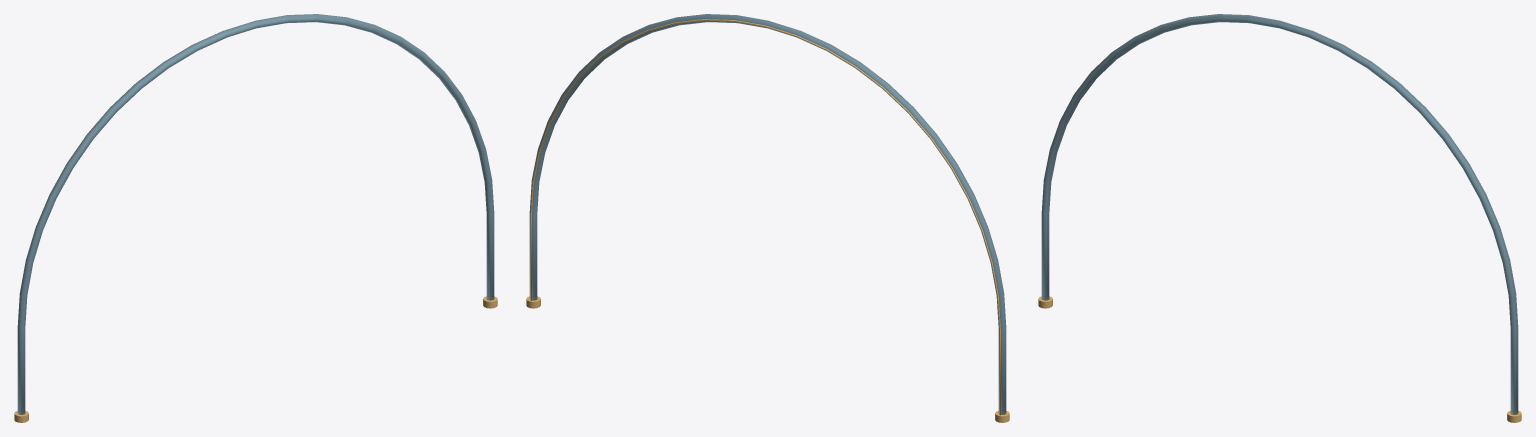
The model's file is threshold-checkpoint-ring-lod1.glb.
3 renders of one model, left to right at view 1: azimuth 30°, elevation 25°; view 2: azimuth 150°, elevation 25°; view 3: azimuth 330°, elevation 25°, orthographic.
Visible parts, largest first — view 1: frame; view 2: frame; view 3: frame.
Part boxes in pixels (box(x1,y1,x2,y2)): frame: box(14, 14, 497, 422); frame: box(526, 14, 1009, 422); frame: box(1038, 14, 1521, 422).
Size of the model in its own units: 15.2 by 10.32 by 0.4.
